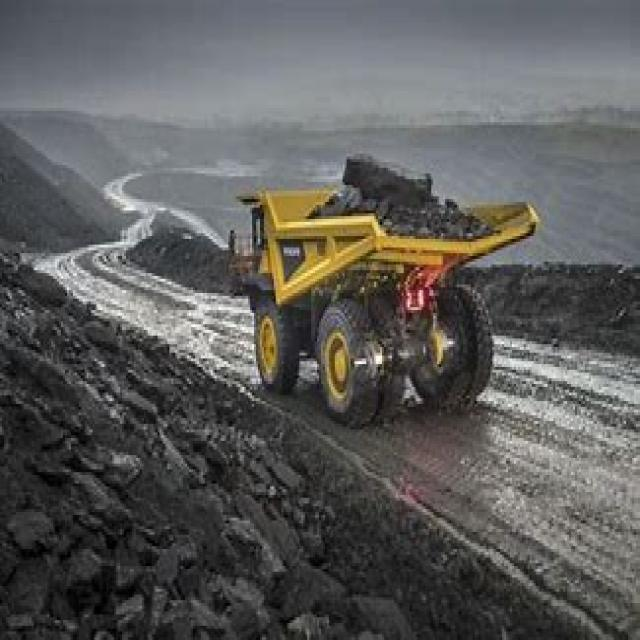dump_truck: (230, 145, 546, 427)
